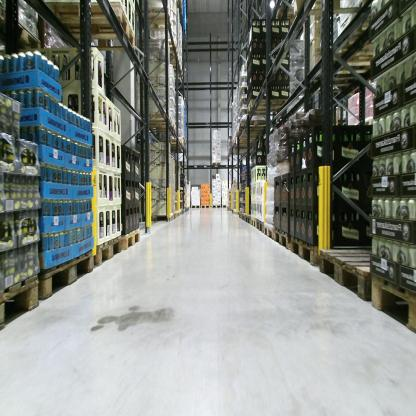pallet: (45, 4, 138, 54), (317, 243, 373, 310), (39, 252, 100, 305), (369, 269, 415, 334), (0, 277, 42, 330), (305, 56, 376, 85), (2, 13, 48, 57), (293, 1, 370, 19), (96, 232, 125, 271), (290, 232, 319, 267), (246, 94, 289, 113), (141, 7, 174, 30), (236, 118, 274, 134), (121, 228, 141, 254), (273, 226, 293, 251), (141, 210, 174, 222), (141, 114, 173, 126), (145, 122, 177, 134), (163, 40, 178, 56), (264, 221, 274, 240), (164, 139, 183, 148), (257, 217, 264, 234), (250, 216, 257, 228), (190, 203, 201, 209), (246, 213, 251, 224), (212, 203, 222, 208), (200, 204, 210, 209), (211, 161, 221, 166), (221, 203, 229, 209), (242, 212, 246, 221), (238, 211, 242, 219), (176, 210, 180, 217), (173, 211, 176, 218)
